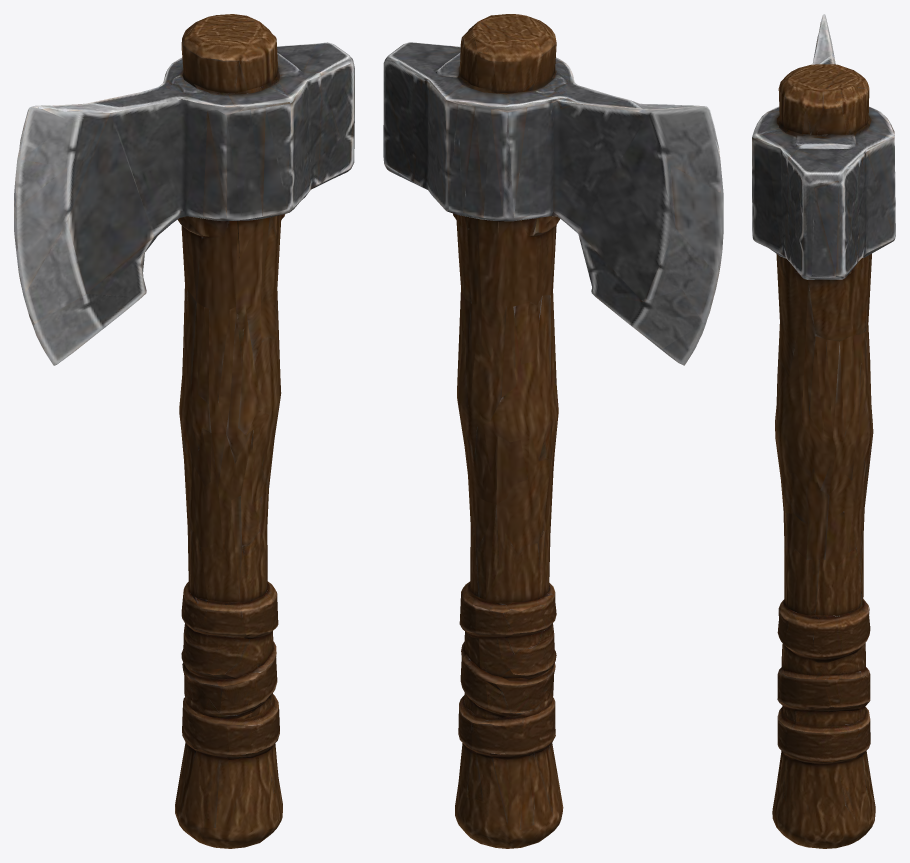
The model's file is work_hatchet.glb.
3 renders of one model, left to right at view 1: azimuth 30°, elevation 25°; view 2: azimuth 150°, elevation 25°; view 3: azimuth 270°, elevation 25°, orthographic. The views are drawn at different scales.
Bounding box in the file's own units: 0.5373 × 1.24 × 0.2138.
1 material, 1 textured.
